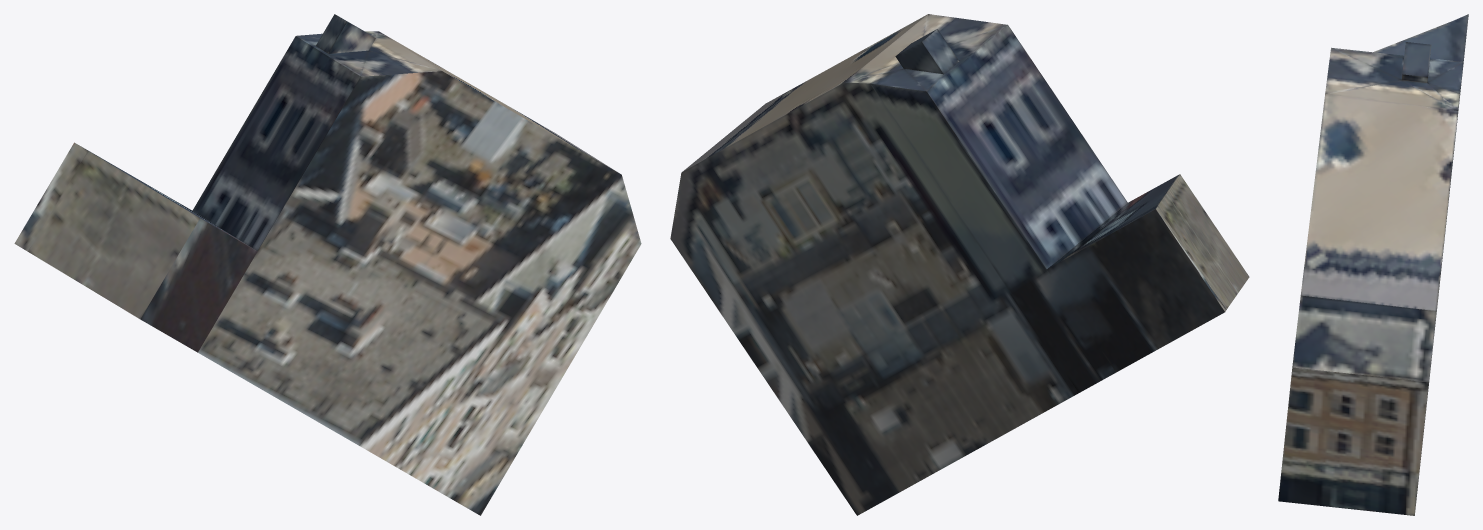
The picture shows the model from 3 angles, left to right: view 1: azimuth 30°, elevation 25°; view 2: azimuth 150°, elevation 25°; view 3: azimuth 270°, elevation 25°; orthographic projection. The views are drawn at different scales.
Parts seen in each view (by area): view 1: BAG_0599100000671730 (×3); view 2: BAG_0599100000671730 (×3); view 3: BAG_0599100000671730 (×4).
Part boxes in pixels (bbox=[...]): BAG_0599100000671730 (×3): bbox=[14, 14, 641, 515]; BAG_0599100000671730 (×3): bbox=[670, 14, 1249, 515]; BAG_0599100000671730 (×4): bbox=[1278, 14, 1468, 515].
Size of the model in its own units: 25.38 by 21.18 by 8.28.
Materials: 6 (5 with a texture image).
